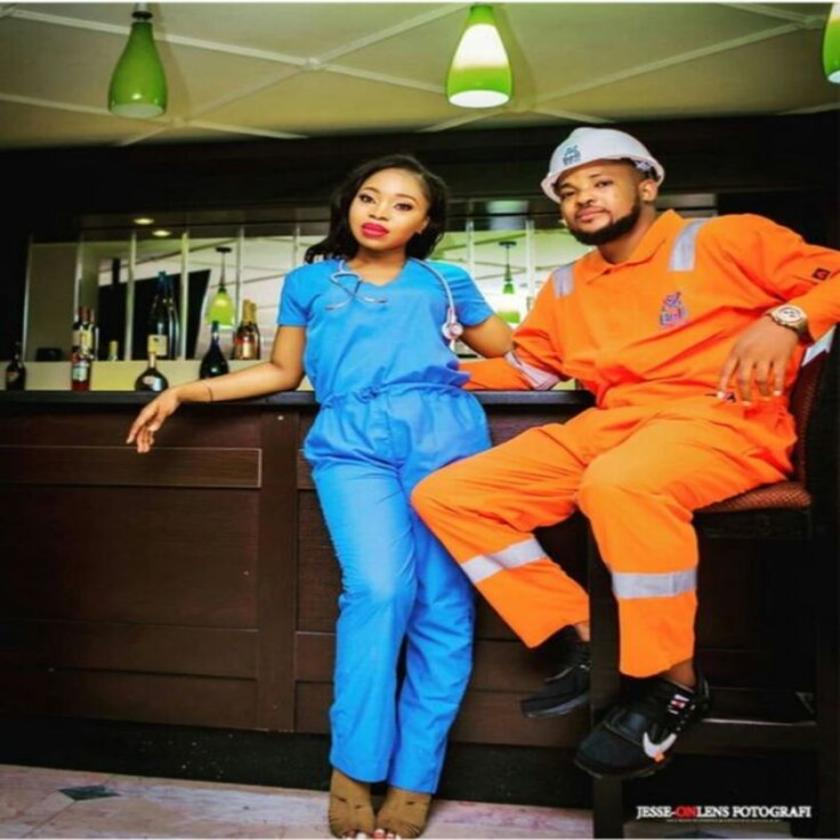Con_casco: (536, 127, 674, 255)
Sin_casco: (336, 153, 450, 280)
